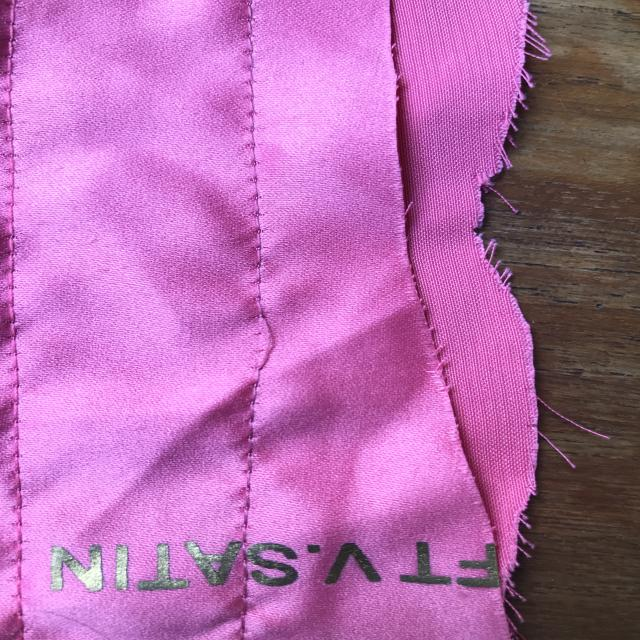skip: (250, 296, 290, 380)
